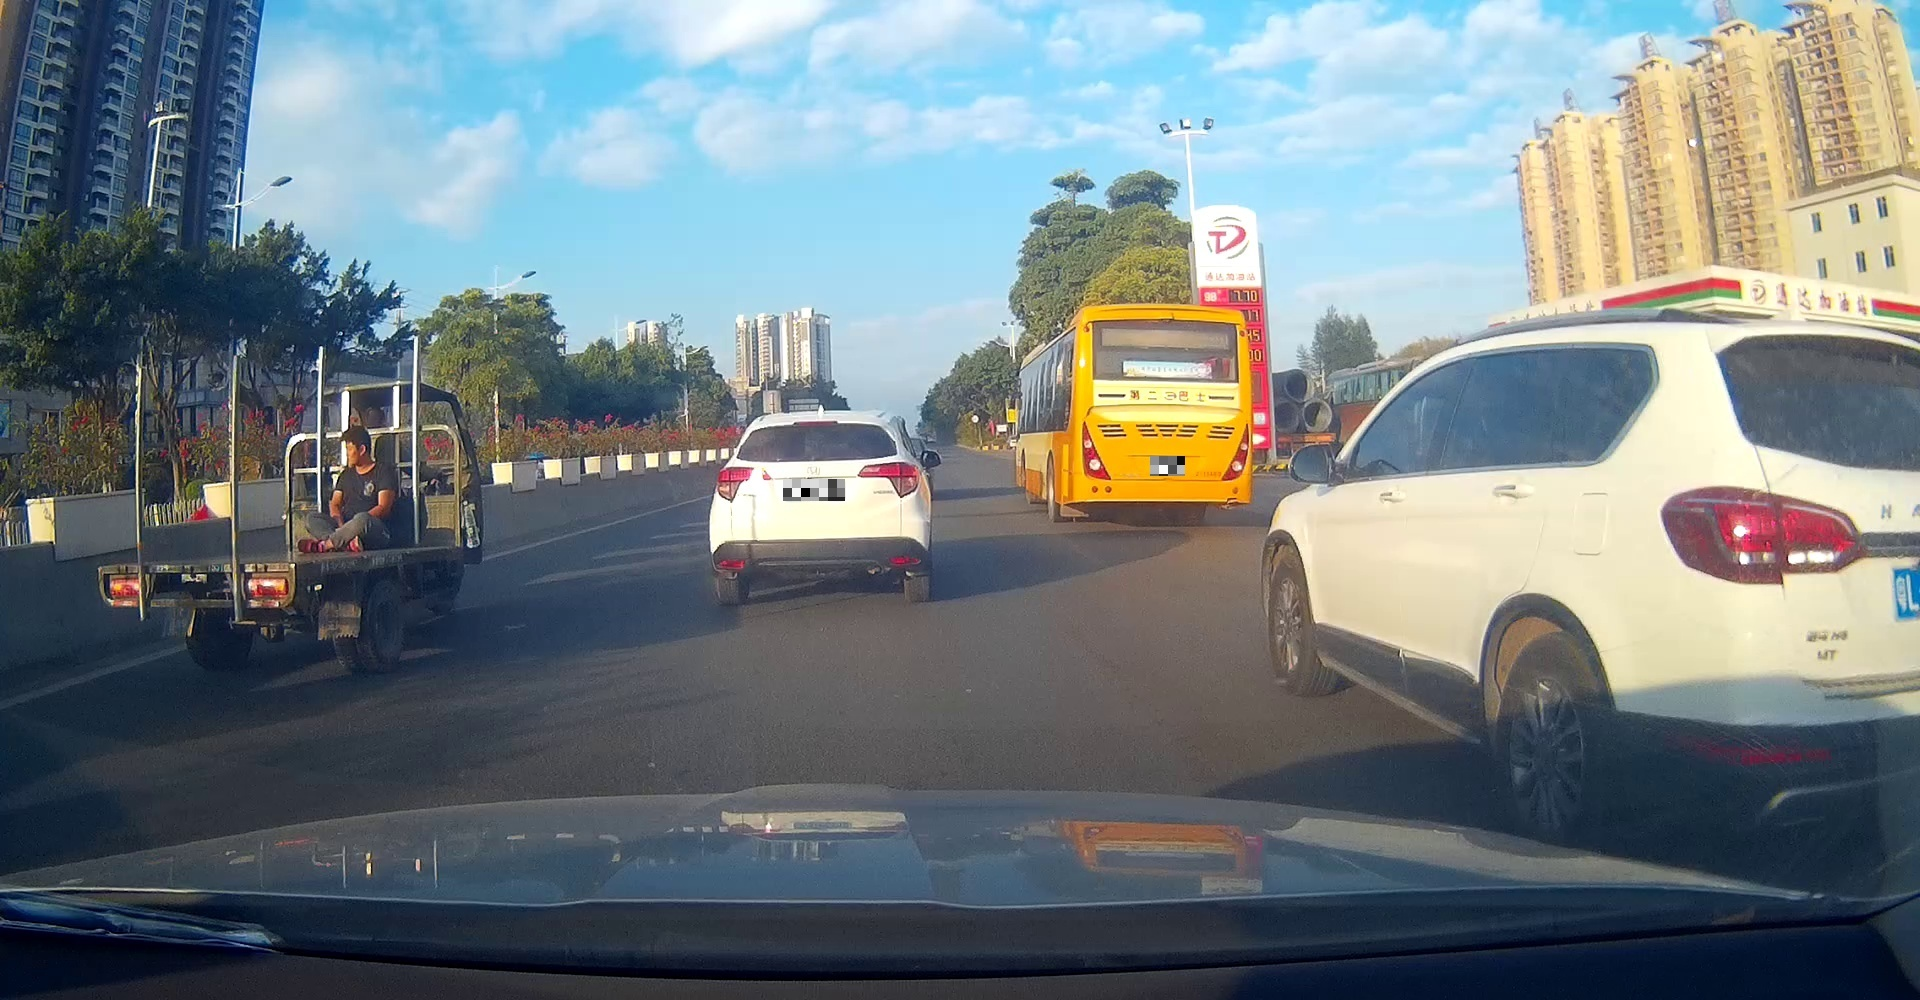L_light: (716, 464, 771, 501), (1081, 420, 1111, 481)
R_light: (857, 459, 919, 497), (1219, 423, 1250, 482)
T_light: (792, 420, 838, 428), (1148, 317, 1177, 324)
day-no: (709, 412, 931, 603), (1073, 302, 1253, 523)
plate_1: (783, 478, 844, 501)
plate_2: (1150, 456, 1185, 476)
